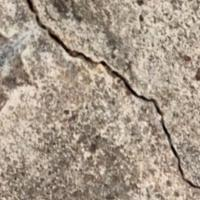crack: (26, 0, 199, 199)
